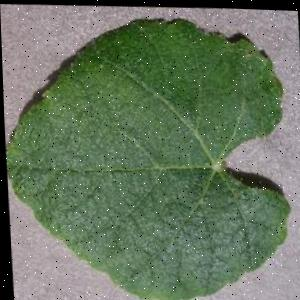Folha: (0, 5, 293, 300)
